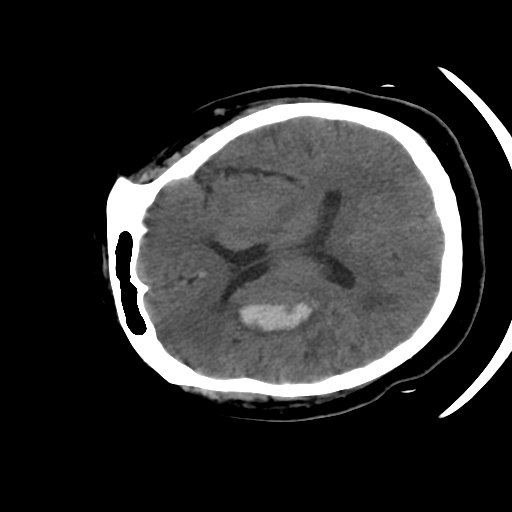a: (227, 288, 329, 342)
